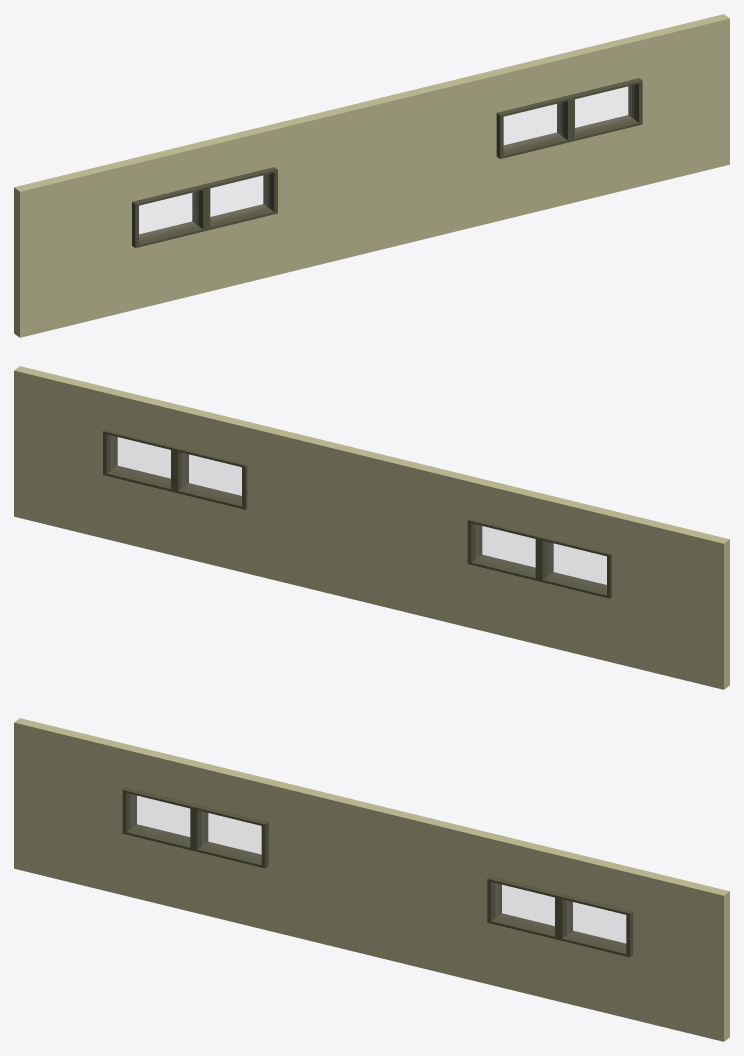
The model's file is walll.fbx.
The picture shows the model from 3 angles, top to bottom: view 1: azimuth 30°, elevation 25°; view 2: azimuth 150°, elevation 25°; view 3: azimuth 330°, elevation 25°; orthographic projection.
Visible parts, largest first — view 1: pCube170, pCube157, pCube160, pCube161, pCube155, pCube158, pCube159, pCube156, pCube154; view 2: pCube170, pCube154, pCube159, pCube156, pCube158, pCube157, pCube160, pCube161, pCube155; view 3: pCube170, pCube155, pCube161, pCube160, pCube157, pCube156, pCube159, pCube154, pCube158.
Part boxes in pixels (x1,y1,x2,y2): pCube170: [14, 14, 729, 337]; pCube157: [496, 95, 571, 159]; pCube160: [132, 184, 206, 247]; pCube161: [203, 167, 277, 230]; pCube155: [568, 78, 642, 141]; pCube158: [139, 192, 198, 237]; pCube159: [210, 175, 268, 219]; pCube156: [504, 103, 561, 148]; pCube154: [575, 86, 632, 131]; pCube170: [14, 366, 729, 689]; pCube154: [110, 436, 170, 482]; pCube159: [475, 525, 535, 571]; pCube156: [182, 453, 241, 500]; pCube158: [549, 542, 606, 589]; pCube157: [174, 447, 247, 509]; pCube160: [539, 536, 611, 598]; pCube161: [467, 519, 540, 581]; pCube155: [103, 430, 175, 492]; pCube170: [14, 718, 729, 1041]; pCube155: [558, 893, 633, 957]; pCube161: [194, 804, 268, 868]; pCube160: [122, 787, 196, 850]; pCube157: [487, 876, 561, 939]; pCube156: [495, 883, 554, 929]; pCube159: [202, 812, 261, 857]; pCube154: [567, 901, 625, 946]; pCube158: [131, 794, 189, 840].
Size of the model in its own units: 93.07 by 18.3 by 2.48.
